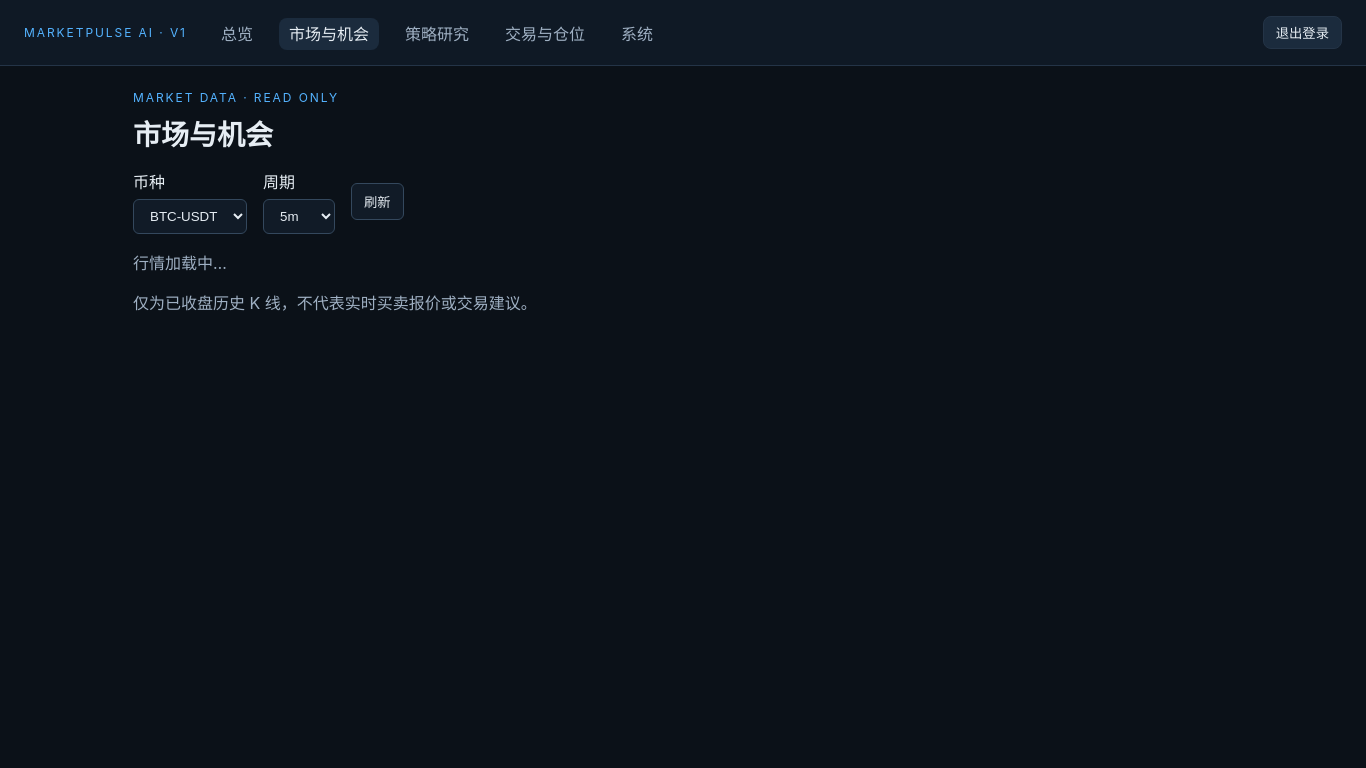
Test: GWT-UI01-01～06 Market page › GWT-UI01-04: a late response for the prior selection cannot replace the current chart
Check: the text "行情加载中…" is shown, box [133,253,227,273]
Select "ETH-USDT" in the dropdown labelled "币种" at (190, 216), box [133,199,247,234]
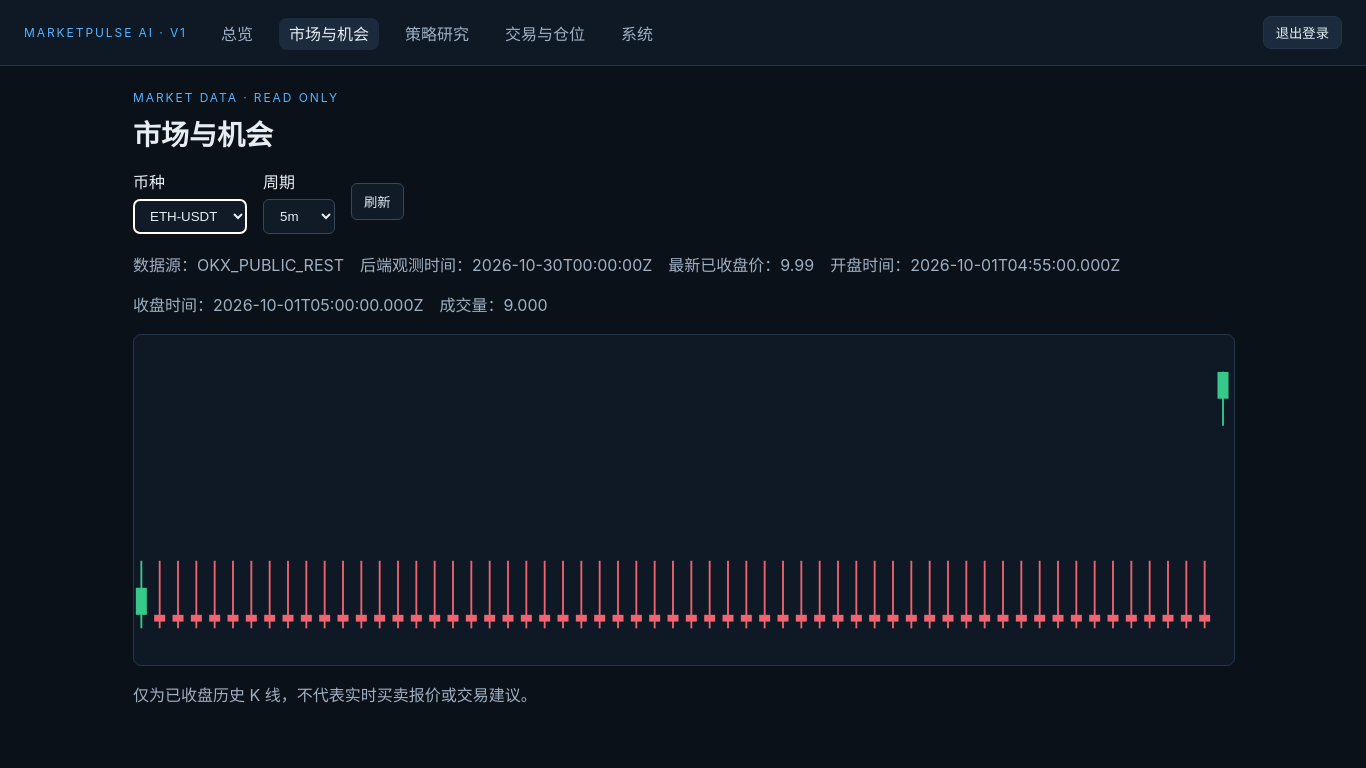
Check: the picture with test id "candle-chart" is shown, box [133,334,1235,666]
